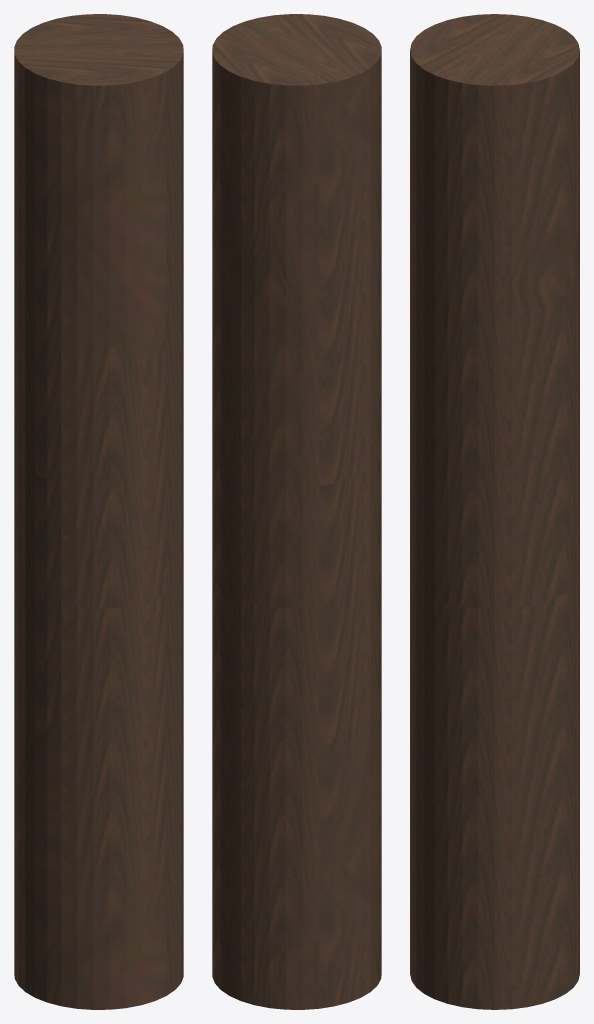
File: post_barrier.fbx
The picture shows the model from 3 angles, left to right: view 1: azimuth 30°, elevation 25°; view 2: azimuth 150°, elevation 25°; view 3: azimuth 270°, elevation 25°; orthographic projection.
Visible parts, largest first — view 1: Cylinder; view 2: Cylinder; view 3: Cylinder.
Boxes of the visible parts, x1,y1,x2,y2 form: Cylinder: (14, 14, 183, 1009); Cylinder: (212, 14, 381, 1009); Cylinder: (410, 14, 579, 1009).
Size of the model in its own units: 1 by 6 by 1.
1 material, 1 textured.
